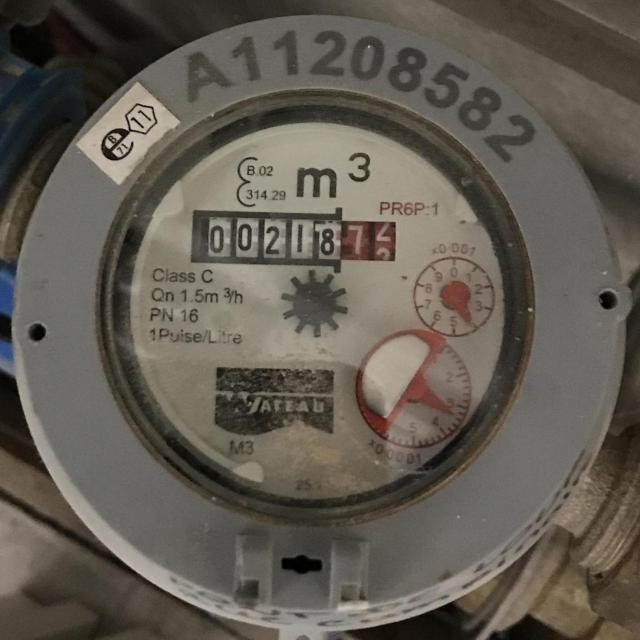gaz_meter: (130, 121, 505, 500)
indication: (190, 212, 398, 265)
